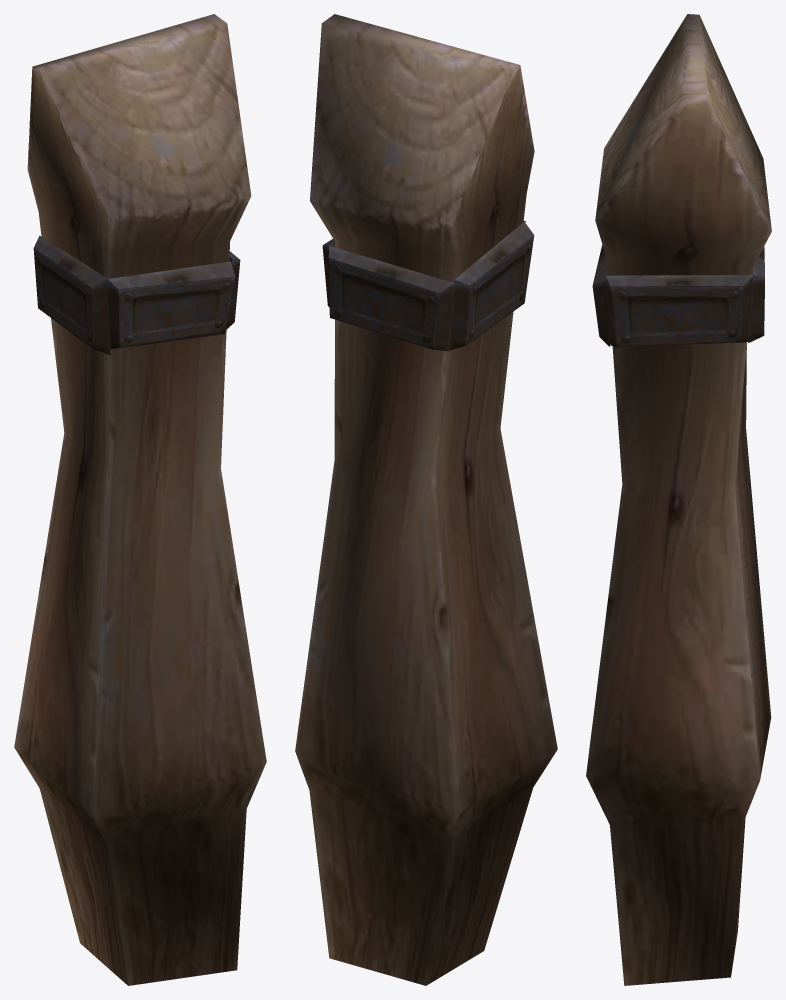
The picture shows the model from 3 angles, left to right: view 1: azimuth 30°, elevation 25°; view 2: azimuth 150°, elevation 25°; view 3: azimuth 270°, elevation 25°; orthographic projection. The views are drawn at different scales.
Size of the model in its own units: 0.4596 by 2.17 by 0.4078.
Materials: 2 (2 with a texture image).
